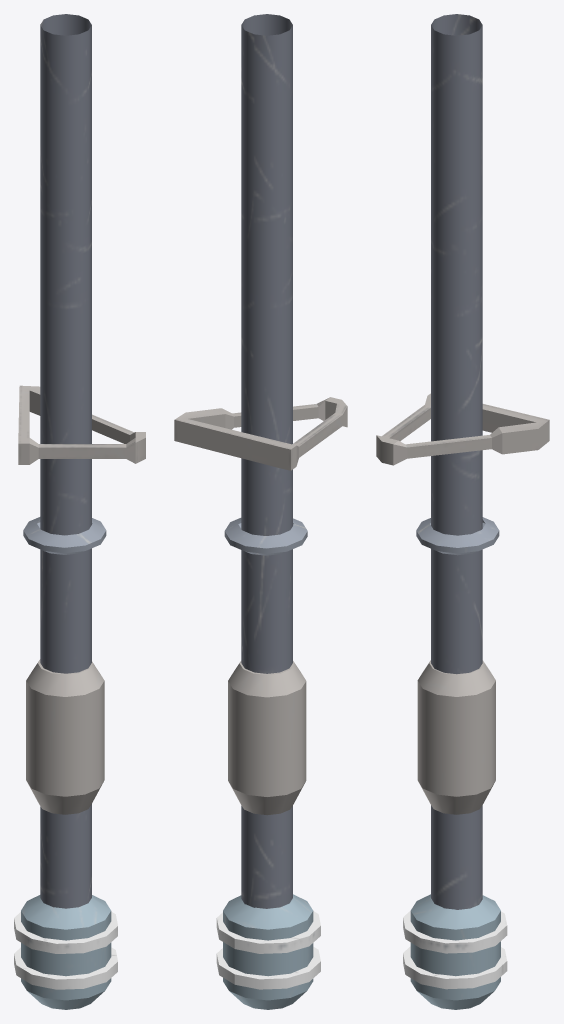
Rendered from Pfb_Soda_ExhaustSystem1.fbx.
The picture shows the model from 3 angles, left to right: view 1: azimuth 90°, elevation 25°; view 2: azimuth 150°, elevation 25°; view 3: azimuth 330°, elevation 25°; orthographic projection.
Parts seen in each view (by area): view 1: MAT_Soda_Pipe 1; view 2: MAT_Soda_Pipe 1; view 3: MAT_Soda_Pipe 1.
Part boxes in pixels (left/top/right/bottom): MAT_Soda_Pipe 1: left=14, top=14, right=145, bottom=1009; MAT_Soda_Pipe 1: left=174, top=14, right=347, bottom=1009; MAT_Soda_Pipe 1: left=376, top=14, right=549, bottom=1009.
Bounding box in the file's own units: 0.5493 × 4.36 × 0.5365.
1 material, 1 textured.
